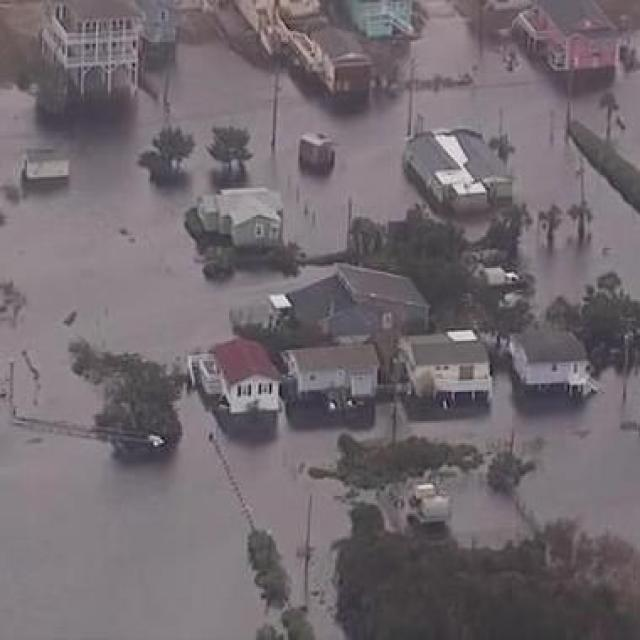flood: (0, 26, 422, 640), (415, 0, 640, 311), (361, 370, 640, 546)
house: (36, 1, 144, 112), (288, 264, 434, 338), (280, 330, 382, 422), (195, 328, 284, 424), (399, 326, 494, 414), (409, 124, 508, 208), (520, 1, 632, 71), (190, 183, 284, 261), (510, 320, 590, 404), (310, 28, 375, 96), (358, 0, 420, 42), (18, 147, 72, 180), (141, 0, 187, 38), (299, 134, 334, 168)
